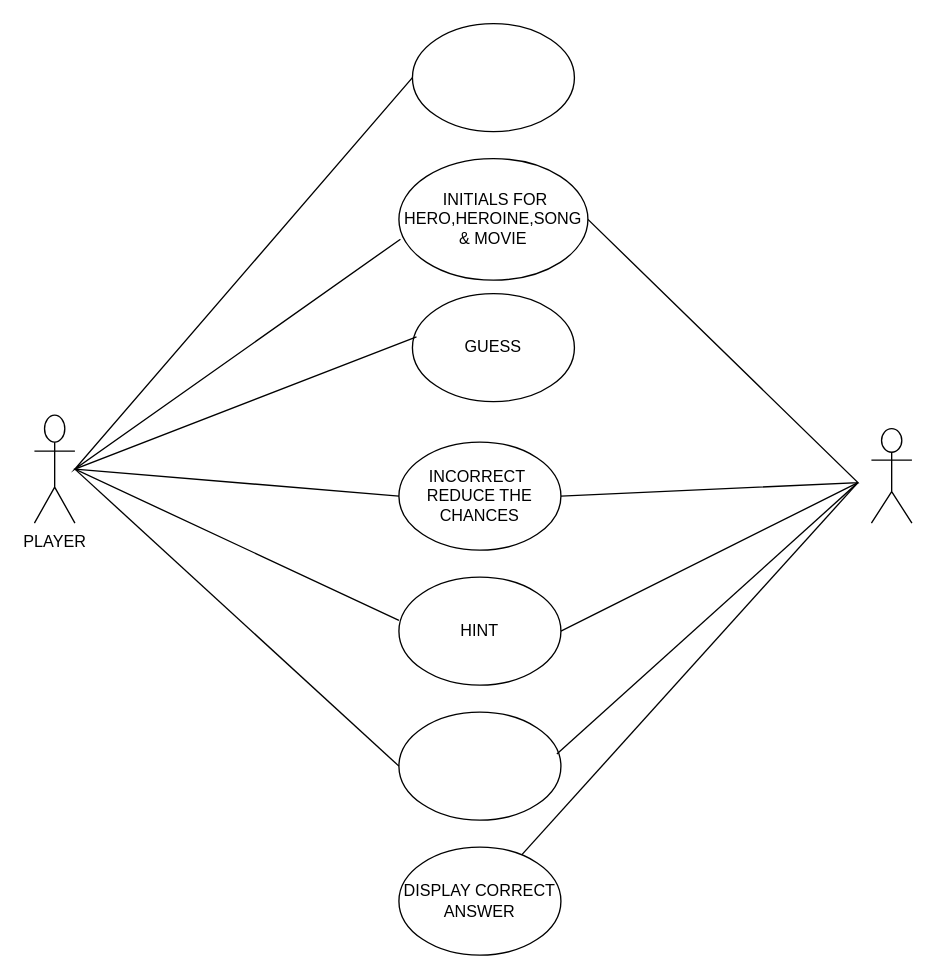
This 948x979 diagram has some shape labels left out. Here are the shapes that lost their labels. From the top down, the centre of each, then its label:
point 492,77: SELECT ANY OPTION
point 891,475: SYSTEM
point 479,765: IF CORRECT BRAVO!
